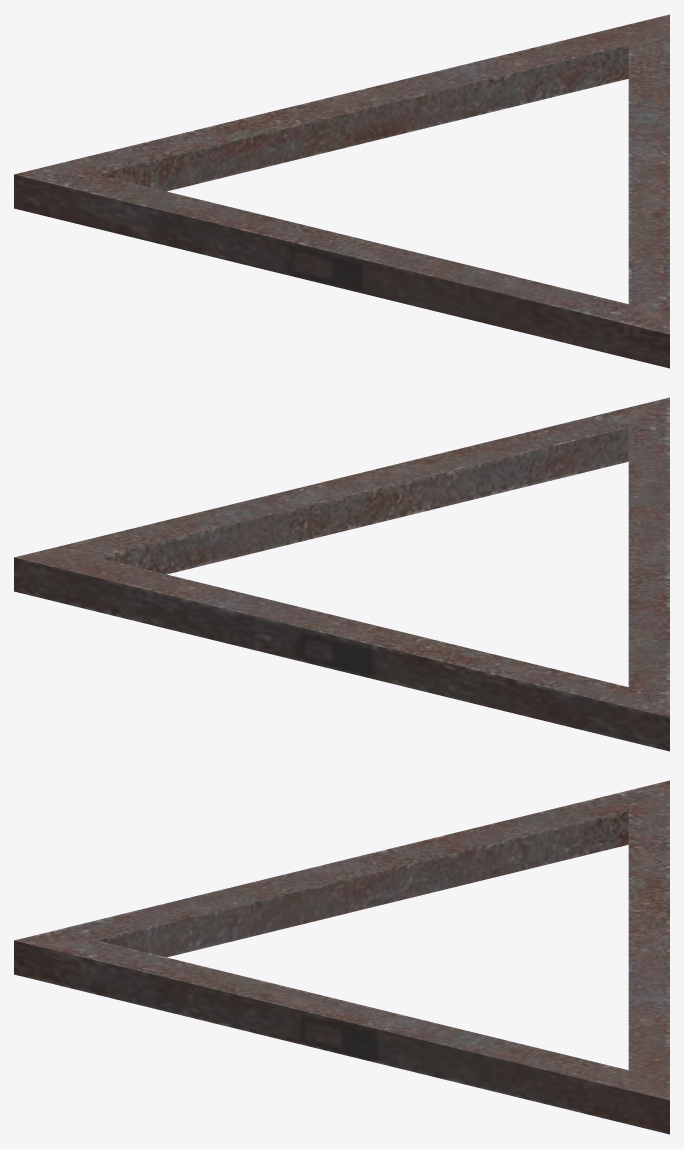
File: armored_floor_frame_triangle_textured.glb
The picture shows the model from 3 angles, top to bottom: view 1: azimuth 30°, elevation 25°; view 2: azimuth 150°, elevation 25°; view 3: azimuth 270°, elevation 25°; orthographic projection.
Visible parts, largest first — view 1: Circle.001; view 2: Circle.001; view 3: Circle.001.
Part boxes in pixels (x1,y1,x2,y2): Circle.001: [14, 14, 669, 368]; Circle.001: [14, 397, 669, 751]; Circle.001: [14, 780, 669, 1134].
Bounding box in the file's own units: 1.96 × 0.0969 × 1.69.
Materials: 1 (1 with a texture image).
